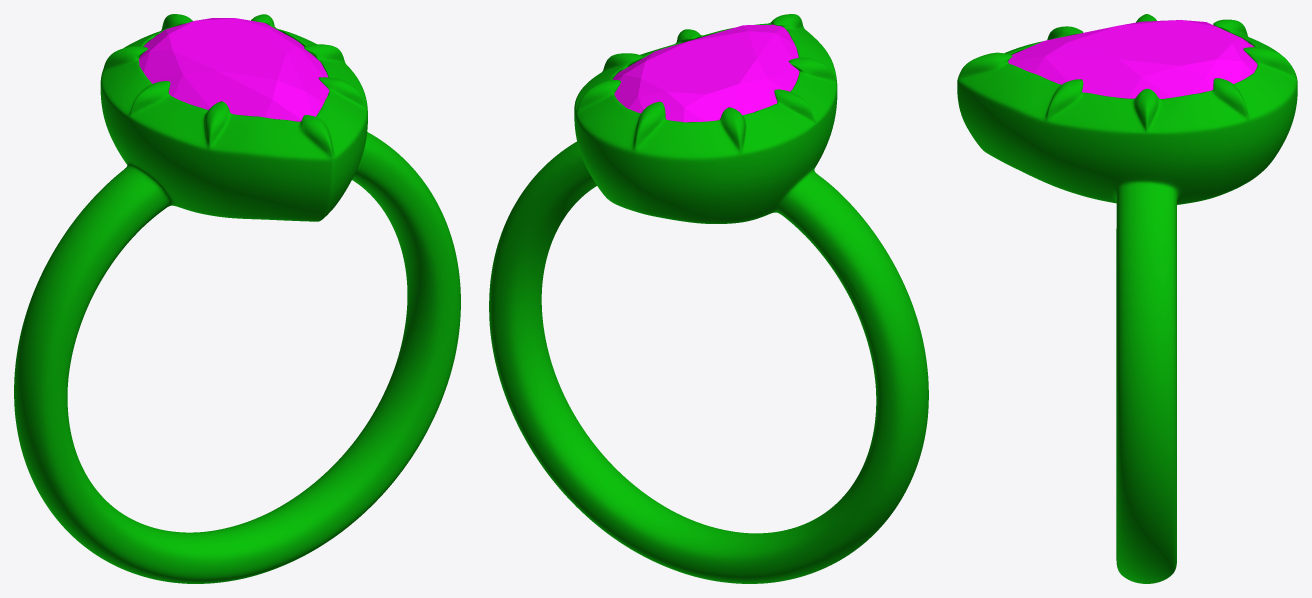
File: BE1726_PE_200ct_RENDER.glb
3 renders of one model, left to right at view 1: azimuth 30°, elevation 25°; view 2: azimuth 150°, elevation 25°; view 3: azimuth 270°, elevation 25°, orthographic.
Parts seen in each view (by area): view 1: Metal 01, CS_Diamond_Pear; view 2: Metal 01, CS_Diamond_Pear; view 3: Metal 01, CS_Diamond_Pear.
Boxes of the visible parts, x1,y1,x2,y2 form: Metal 01: [14, 14, 460, 583]; CS_Diamond_Pear: [138, 18, 329, 121]; Metal 01: [489, 14, 928, 583]; CS_Diamond_Pear: [613, 24, 799, 122]; Metal 01: [957, 14, 1297, 583]; CS_Diamond_Pear: [1008, 20, 1257, 98].
Size of the model in its own units: 20.49 by 23.52 by 14.01.
